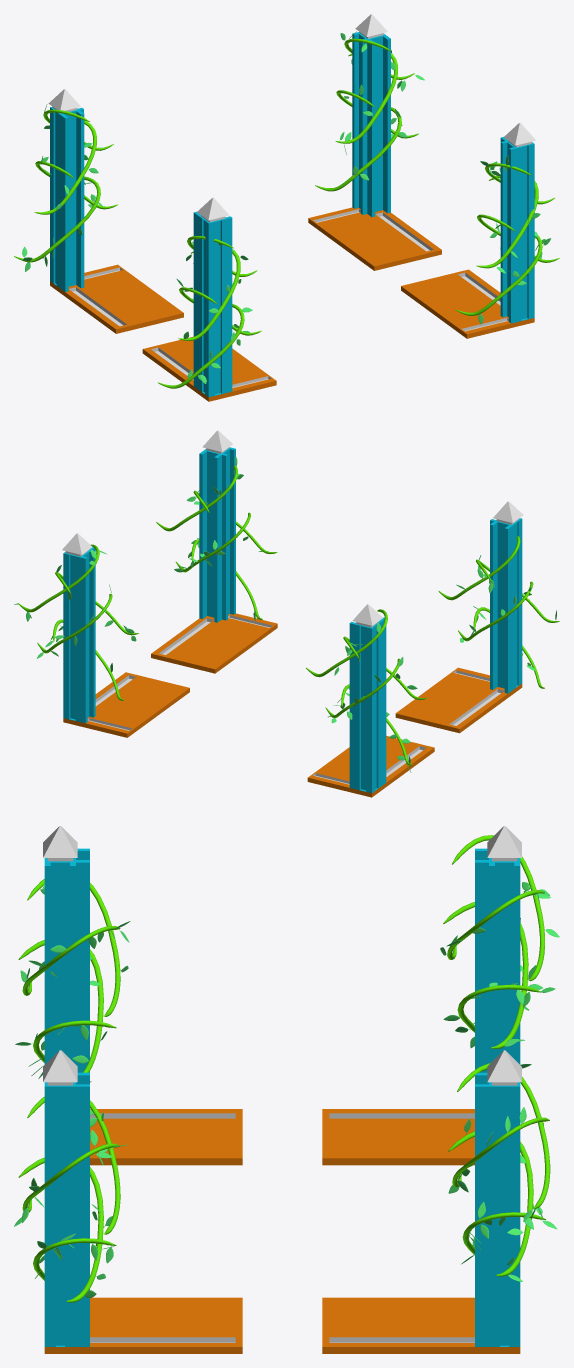
Rendered from Deco_Hidraulica.fbx.
The picture shows the model from 3 angles, top to bottom: view 1: azimuth 30°, elevation 25°; view 2: azimuth 150°, elevation 25°; view 3: azimuth 270°, elevation 25°; orthographic projection. The views are drawn at different scales.
Visible parts, largest first — view 1: Cube, BézierCurve; view 2: Cube, BézierCurve; view 3: Cube, BézierCurve.
Part boxes in pixels (x1,y1,x2,y2): Cube: [48, 14, 535, 401]; BézierCurve: [14, 38, 559, 388]; Cube: [62, 430, 523, 797]; BézierCurve: [17, 465, 559, 765]; Cube: [43, 826, 521, 1353]; BézierCurve: [18, 835, 550, 1302].
Bounding box in the file's own units: 614 × 466 × 279.
